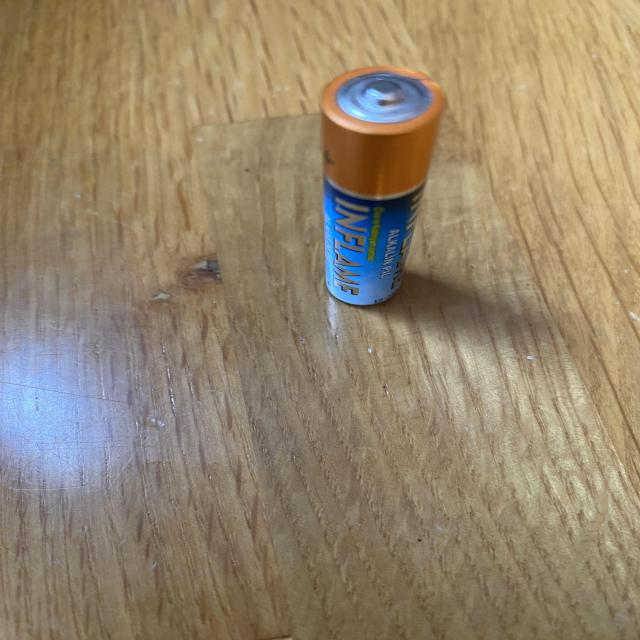AAA: (319, 65, 446, 306)
